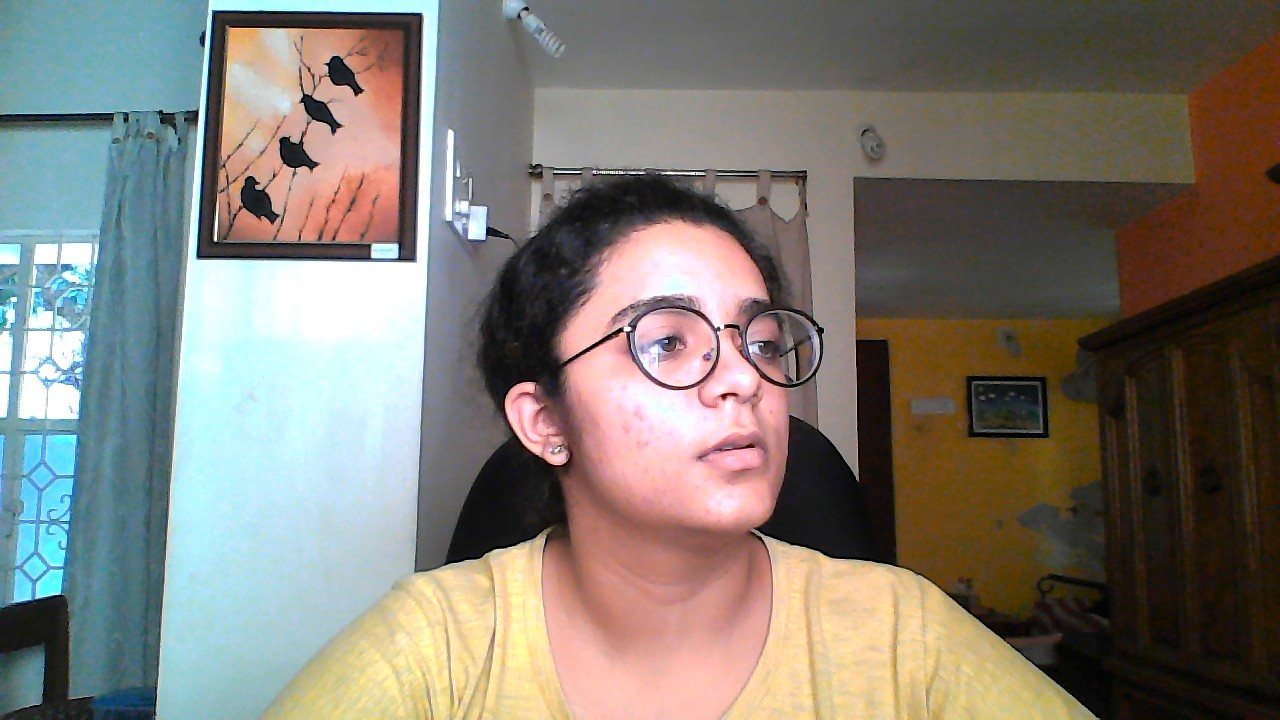person: (490, 105, 876, 715)
